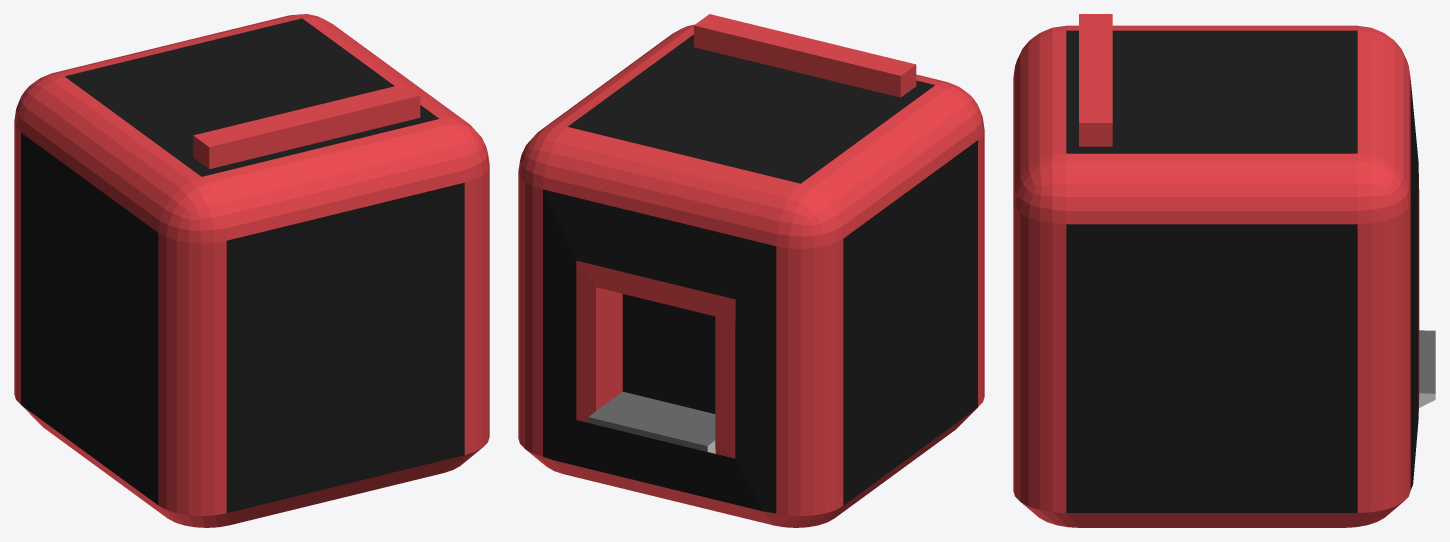
File: Spawner.fbx
3 views of the same model, side by side, from view 1: azimuth 30°, elevation 25°; view 2: azimuth 150°, elevation 25°; view 3: azimuth 270°, elevation 25° (orthographic). The views are drawn at different scales.
Parts seen in each view (by area): view 1: Cube; view 2: Cube; view 3: Cube.
Part boxes in pixels (x1,y1,x2,y2): Cube: (14, 14, 489, 527); Cube: (518, 14, 984, 527); Cube: (1013, 14, 1435, 527).
Bounding box in the file's own units: 2000 × 2130 × 2126.
